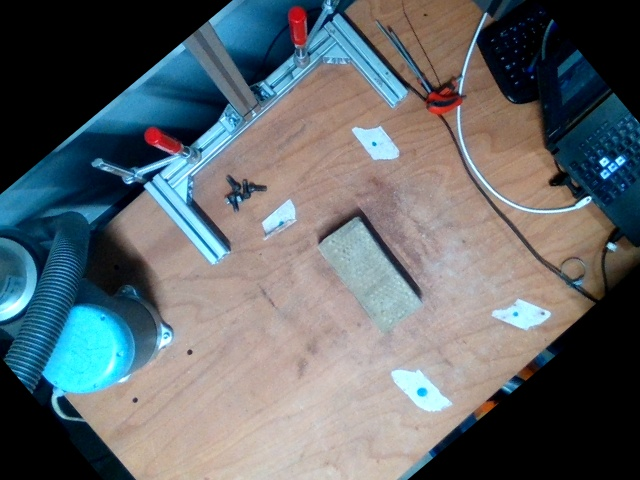brick: (316, 215, 423, 336)
